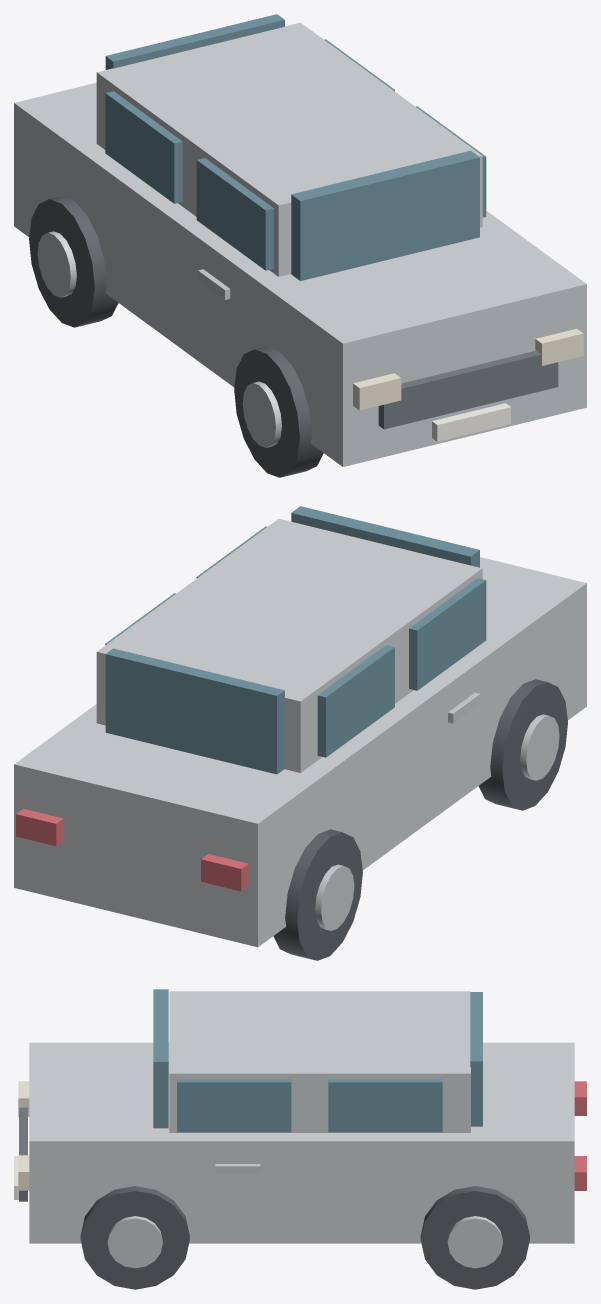
File: dhaka-car.gltf
3 views of the same model, one above another, from view 1: azimuth 30°, elevation 25°; view 2: azimuth 150°, elevation 25°; view 3: azimuth 270°, elevation 25° (orthographic). The views are drawn at different scales.
Parts seen in each view (by area): view 1: bottom-car-body, upper-cabin, windscreen, grill, tyre--1--1.35, tyre--1-1.3, door-window--1--0.65, door-window--1-0.53, rear-windscreen, rim--1-1.3, rim--1--1.35, front-plate (+2 smaller); view 2: bottom-car-body, upper-cabin, rear-windscreen, tyre--1--1.35, tyre--1-1.3, door-window--1--0.65, door-window--1-0.53, windscreen, rim--1--1.35, rim--1-1.3, tail-lamp--1, tail-lamp-1; view 3: bottom-car-body, upper-cabin, tyre-1--1.35, tyre-1-1.3, door-window-1--0.65, door-window-1-0.53, rim-1-1.3, rim-1--1.35, windscreen, rear-windscreen, grill, door-handle-1 (+3 smaller).
Boxes of the visible parts, bbox=[...] form: bottom-car-body: bbox=[14, 83, 586, 466]; upper-cabin: bbox=[96, 22, 482, 276]; windscreen: bbox=[291, 150, 479, 280]; grill: bbox=[378, 350, 558, 429]; tyre--1--1.35: bbox=[29, 196, 118, 327]; tyre--1-1.3: bbox=[234, 346, 323, 477]; door-window--1--0.65: bbox=[105, 91, 182, 203]; door-window--1-0.53: bbox=[196, 158, 273, 270]; rear-windscreen: bbox=[105, 14, 284, 69]; rim--1-1.3: bbox=[242, 381, 281, 447]; rim--1--1.35: bbox=[37, 231, 76, 297]; front-plate: bbox=[432, 403, 510, 441]; bottom-car-body: bbox=[14, 557, 586, 947]; upper-cabin: bbox=[96, 518, 482, 772]; rear-windscreen: bbox=[105, 648, 284, 774]; tyre--1--1.35: bbox=[273, 829, 362, 960]; tyre--1-1.3: bbox=[478, 679, 567, 810]; door-window--1--0.65: bbox=[317, 645, 394, 757]; door-window--1-0.53: bbox=[409, 578, 486, 690]; windscreen: bbox=[291, 506, 479, 567]; rim--1--1.35: bbox=[315, 864, 354, 930]; rim--1-1.3: bbox=[520, 714, 559, 780]; tail-lamp--1: bbox=[201, 854, 248, 891]; tail-lamp-1: bbox=[16, 809, 63, 846]; bottom-car-body: bbox=[29, 1042, 574, 1243]; upper-cabin: bbox=[169, 991, 470, 1132]; tyre-1--1.35: bbox=[420, 1186, 529, 1289]; tyre-1-1.3: bbox=[80, 1186, 189, 1289]; door-window-1--0.65: bbox=[328, 1079, 442, 1132]; door-window-1-0.53: bbox=[177, 1079, 291, 1132]; rim-1-1.3: bbox=[107, 1216, 162, 1268]; rim-1--1.35: bbox=[447, 1216, 502, 1268]; windscreen: bbox=[153, 989, 168, 1128]; rear-windscreen: bbox=[470, 992, 482, 1126]; grill: bbox=[19, 1107, 27, 1201]; door-handle-1: bbox=[215, 1164, 260, 1174].
Size of the model in its own units: 2.11 by 1.81 by 4.46.
